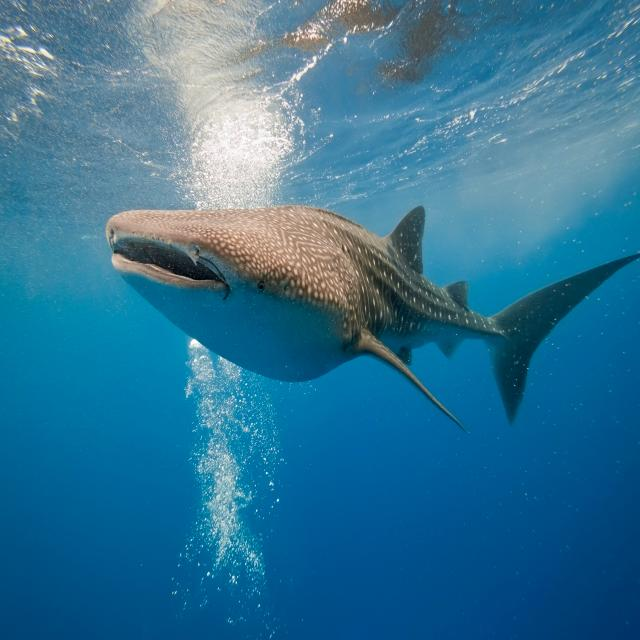whale: (106, 205, 640, 425)
